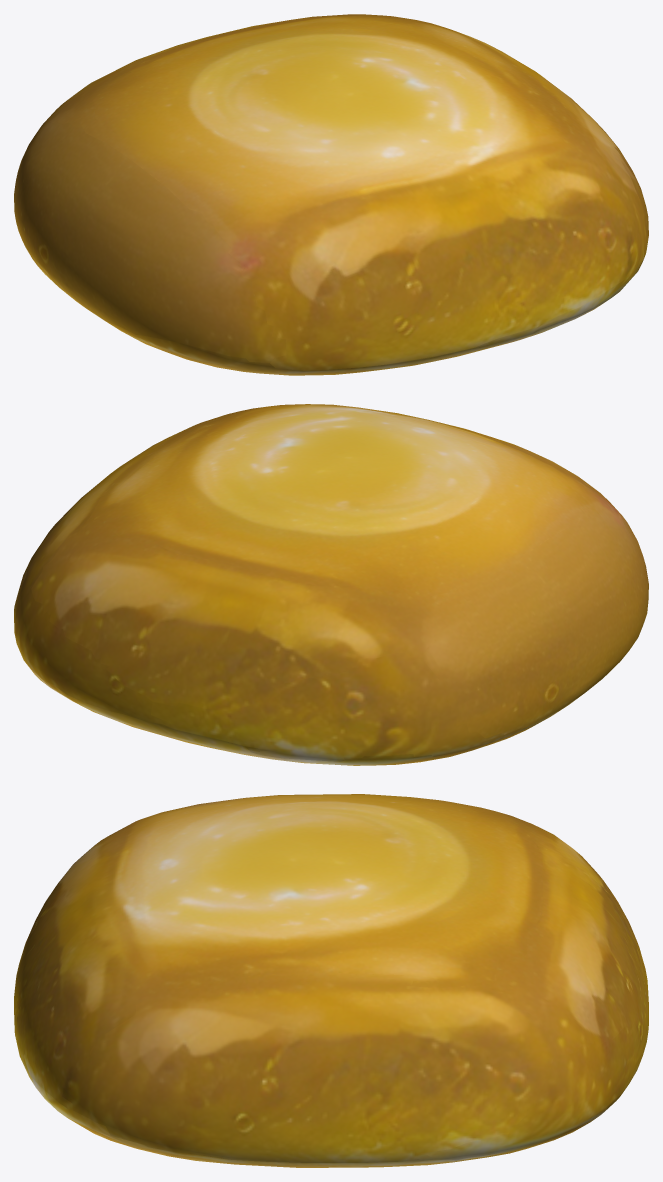
File: HoneyBlob.glb
3 renders of one model, top to bottom at view 1: azimuth 30°, elevation 25°; view 2: azimuth 150°, elevation 25°; view 3: azimuth 270°, elevation 25°, orthographic. The views are drawn at different scales.
Size of the model in its own units: 1.99 by 0.686 by 1.99.
Materials: 1 (1 with a texture image).
